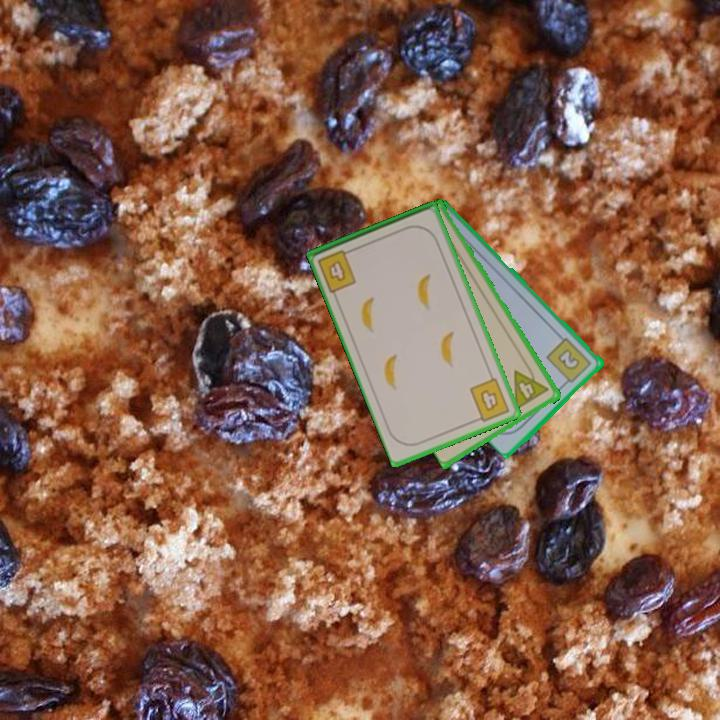2b: (543, 334, 595, 389)
4b: (466, 374, 513, 425), (314, 245, 360, 295)
4p: (510, 361, 552, 412)
